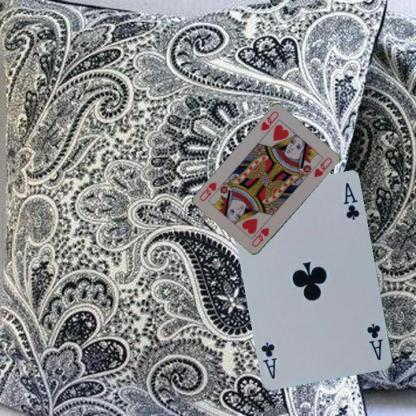Ac: (364, 320, 384, 362)
Qh: (258, 109, 280, 132), (248, 226, 270, 248)
